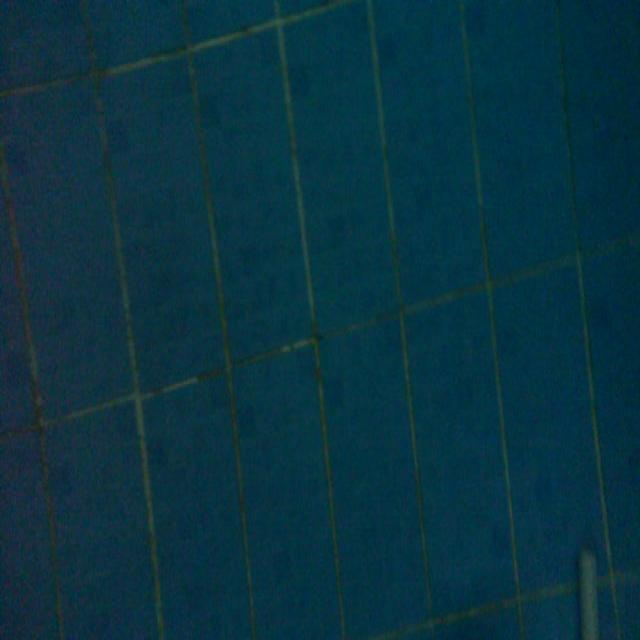Cube: (575, 542, 601, 636)
